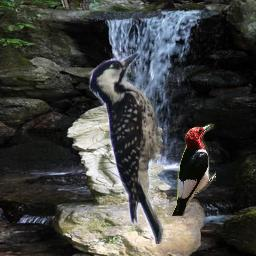Woodpecker: (88, 49, 192, 244), (170, 123, 216, 216)
